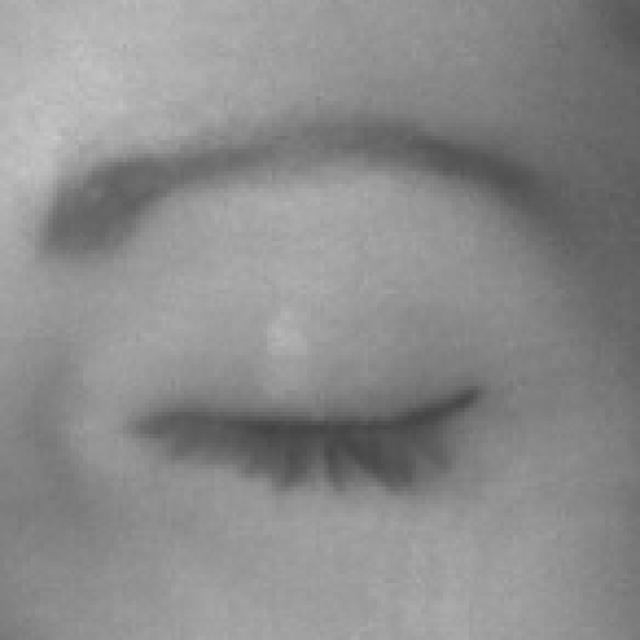close: (21, 59, 632, 608)
